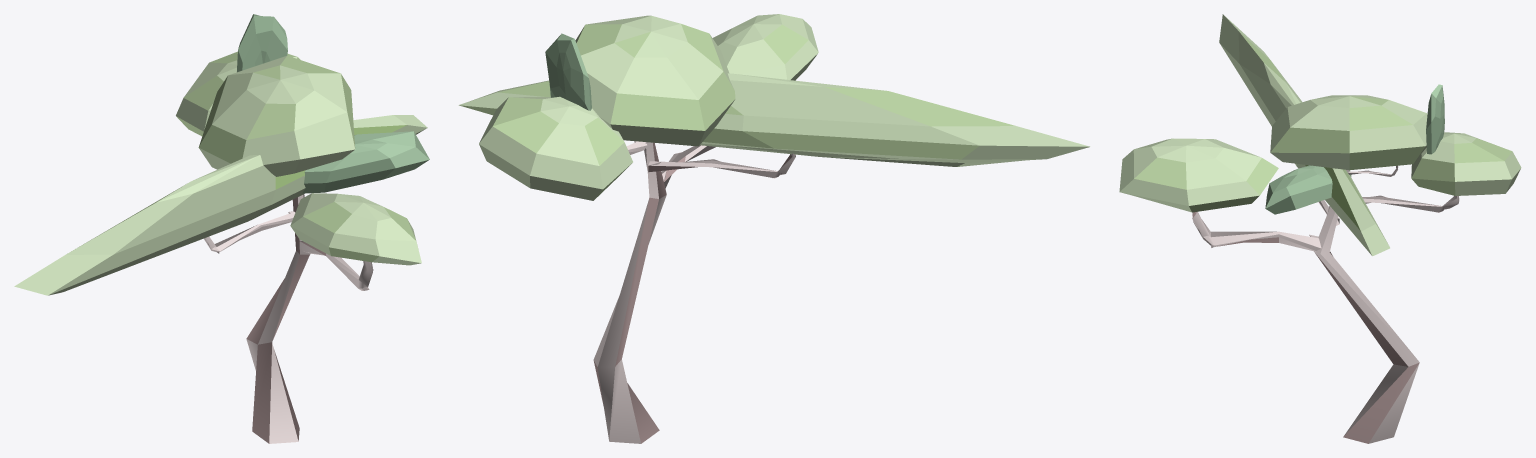
Rendered from arbol1.fbx.
The picture shows the model from 3 angles, left to right: view 1: azimuth 30°, elevation 25°; view 2: azimuth 150°, elevation 25°; view 3: azimuth 270°, elevation 25°; orthographic projection. The views are drawn at different scales.
Visible parts, largest first — view 1: pSphere12, pSphere6, pSphere7, pSphere1, pSphere9, pSphere8, pSphere10, pSphere2, pSphere11; view 2: pSphere12, pSphere6, pSphere8, pSphere1, pSphere7, pSphere10, pSphere11; view 3: pSphere6, pSphere7, pSphere1, pSphere12, pSphere8, pSphere9, pSphere2, pSphere10, pSphere3.
Boxes of the visible parts, x1,y1,x2,y2 form: pSphere12: (14,115,427,295); pSphere6: (198,55,355,176); pSphere7: (290,193,421,265); pSphere1: (246,194,310,443); pSphere9: (302,131,429,193); pSphere8: (176,51,300,136); pSphere10: (237,14,287,72); pSphere2: (299,240,373,290); pSphere11: (204,211,295,253); pSphere12: (458,73,1090,166); pSphere6: (575,15,735,146); pSphere8: (479,96,632,200); pSphere1: (593,142,666,443); pSphere7: (712,14,818,80); pSphere10: (545,33,591,110); pSphere11: (648,153,795,178); pSphere6: (1270,95,1427,170); pSphere7: (1119,138,1278,212); pSphere1: (1314,170,1419,443); pSphere12: (1219,14,1389,256); pSphere8: (1411,132,1521,195); pSphere9: (1265,165,1351,214); pSphere2: (1192,211,1321,251); pSphere10: (1426,84,1444,154); pSphere3: (1362,195,1459,212).
Size of the model in its own units: 14.97 by 11.18 by 11.42.
